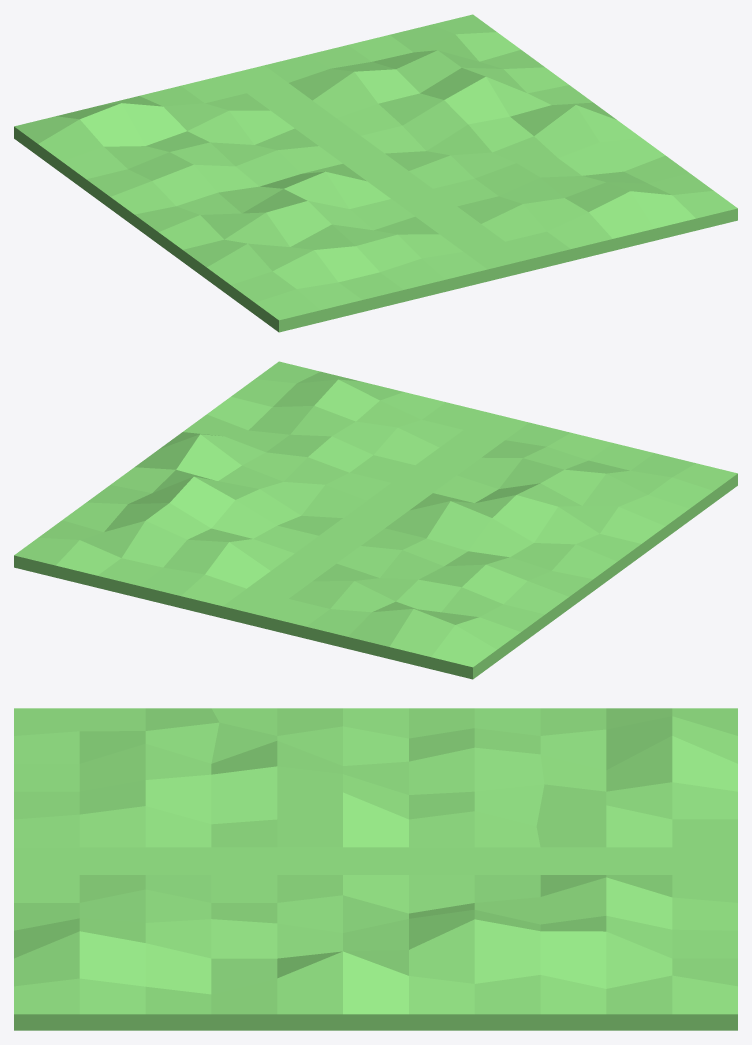
Rendered from grass_field.glb.
The picture shows the model from 3 angles, top to bottom: view 1: azimuth 30°, elevation 25°; view 2: azimuth 150°, elevation 25°; view 3: azimuth 270°, elevation 25°; orthographic projection. The views are drawn at different scales.
Visible parts, largest first — view 1: Cube; view 2: Cube; view 3: Cube.
Part boxes in pixels (<box>): Cube: <box>14,14,737,332</box>; Cube: <box>14,361,737,679</box>; Cube: <box>14,708,737,1030</box>.
Size of the model in its own units: 317 by 26.94 by 317.
